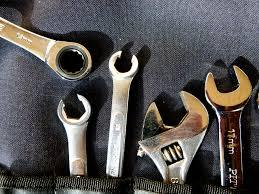wrench: (134, 88, 209, 184), (202, 62, 253, 192), (0, 14, 93, 81), (103, 48, 138, 178), (55, 91, 92, 178)
